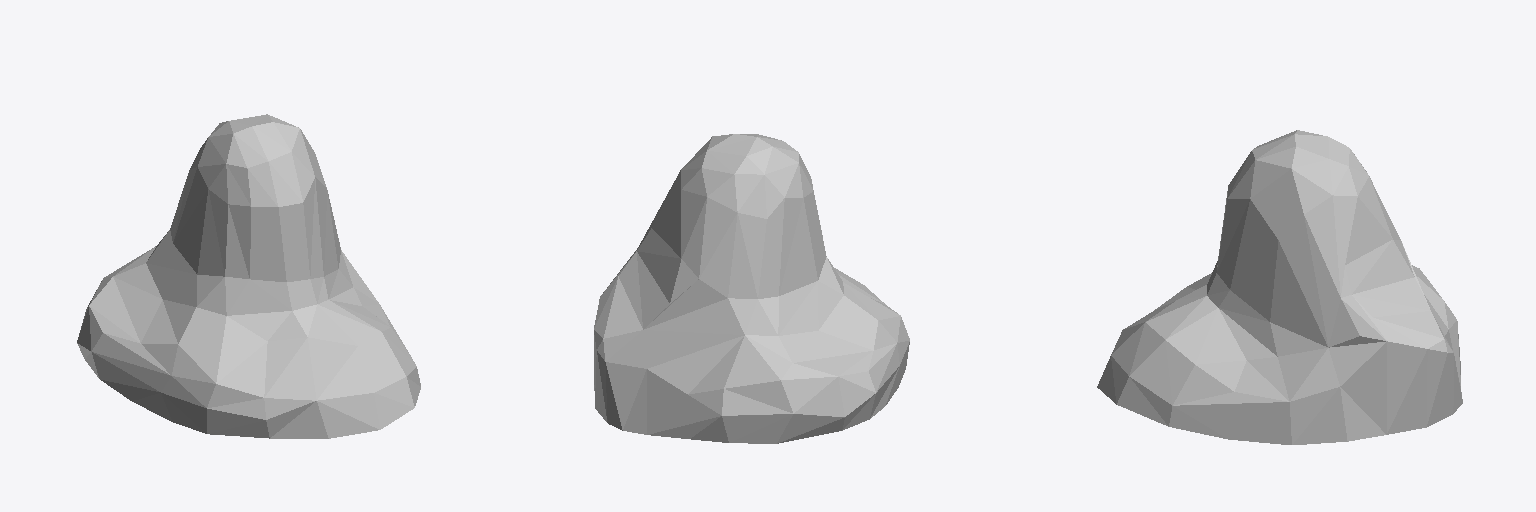
The model's file is stone51.obj.
3 views of the same model, side by side, from view 1: azimuth 30°, elevation 25°; view 2: azimuth 150°, elevation 25°; view 3: azimuth 270°, elevation 25° (orthographic).
Visible parts, largest first — view 1: stone5_Group1.004; view 2: stone5_Group1.004; view 3: stone5_Group1.004.
Boxes of the visible parts, box(x1,y1,x2,y2) form: stone5_Group1.004: box(77, 114, 420, 438); stone5_Group1.004: box(594, 134, 909, 443); stone5_Group1.004: box(1097, 130, 1462, 444).
Bounding box in the file's own units: 2.43 × 2.11 × 2.83.